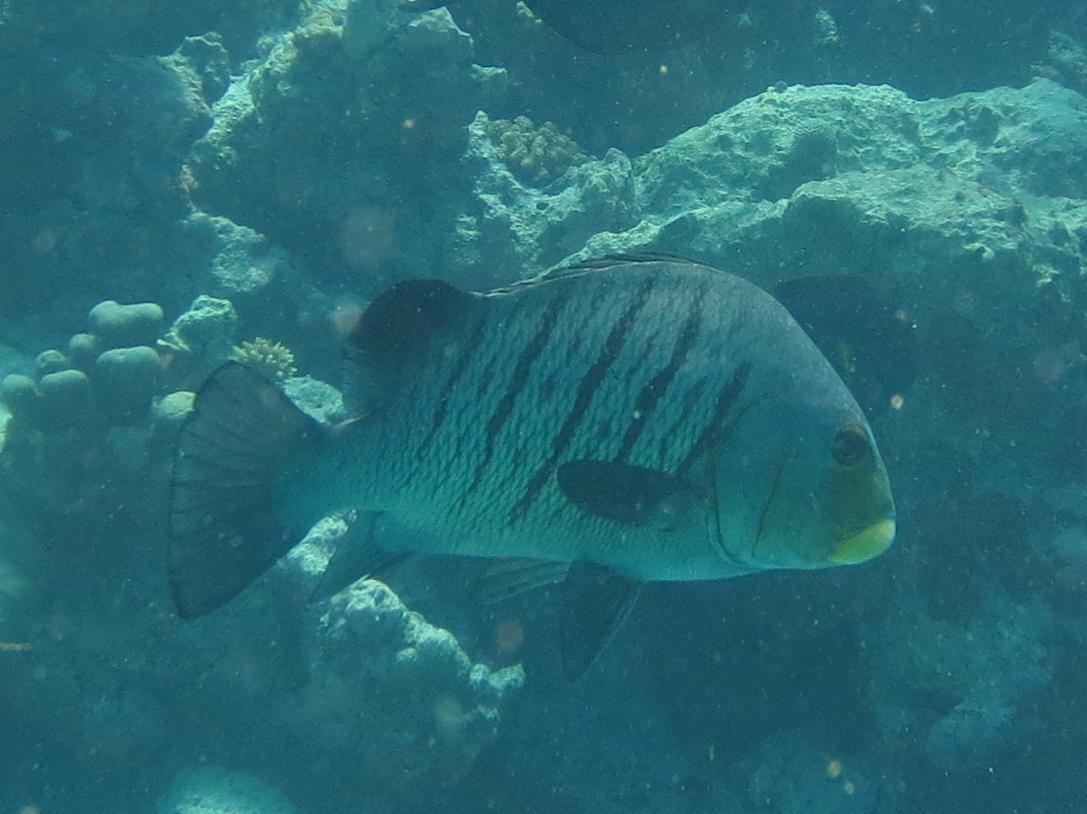Fish: (132, 238, 907, 680)
